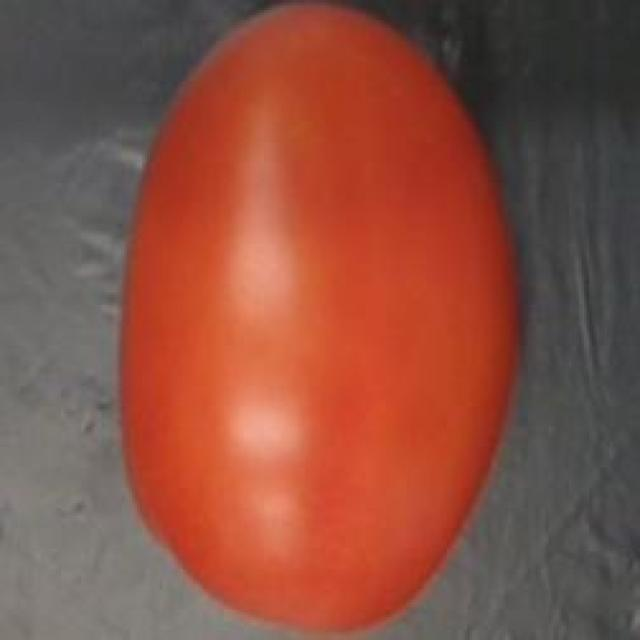ripe tomato: (96, 2, 530, 640)
